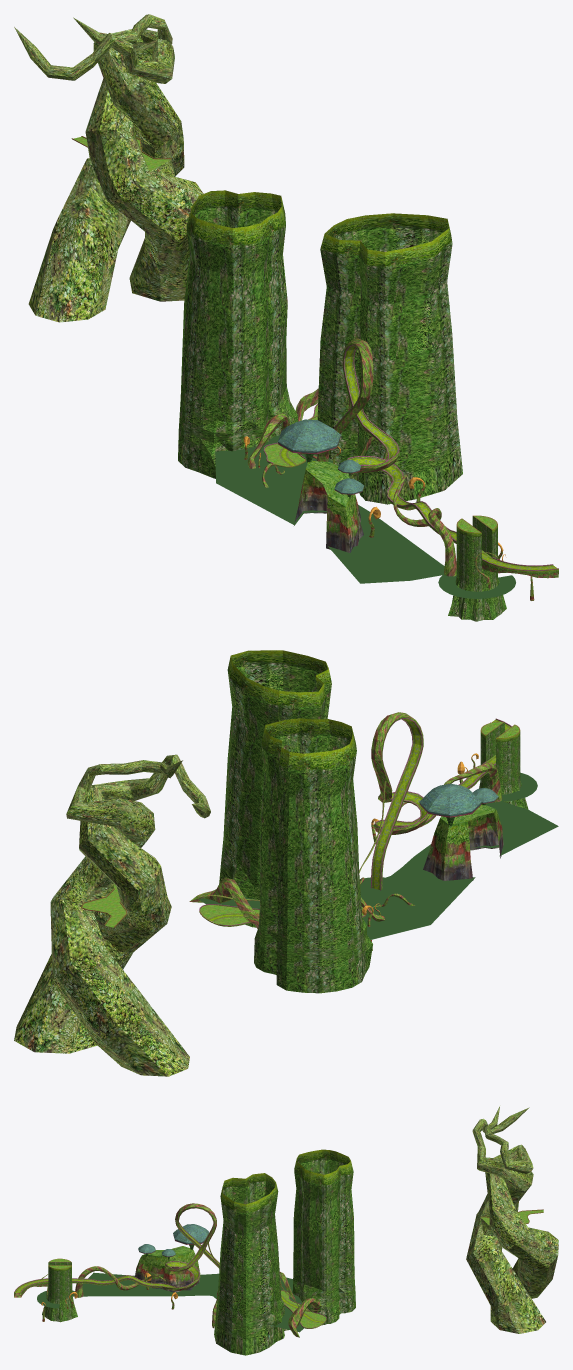
Rendered from Lost Jungle 11.obj.
3 renders of one model, top to bottom at view 1: azimuth 30°, elevation 25°; view 2: azimuth 150°, elevation 25°; view 3: azimuth 270°, elevation 25°, orthographic. The views are drawn at different scales.
Parts seen in each view (by area): view 1: Object_2.001, Object_2, Object_2.002; view 2: Object_2.001, Object_2.002, Object_2; view 3: Object_2.001, Object_2.002, Object_2.
Part boxes in pixels (x1,y1,x2,y2): Object_2.001: (14, 14, 558, 621); Object_2: (215, 434, 515, 598); Object_2.002: (264, 346, 556, 569); Object_2.001: (14, 650, 558, 1076); Object_2.002: (200, 719, 510, 925); Object_2: (198, 772, 537, 939); Object_2.001: (14, 1106, 558, 1355); Object_2.002: (14, 1224, 326, 1327); Object_2: (37, 1277, 303, 1332).
Bounding box in the file's own units: 1780 × 2429 × 6028.
Materials: 25 (25 with a texture image).
